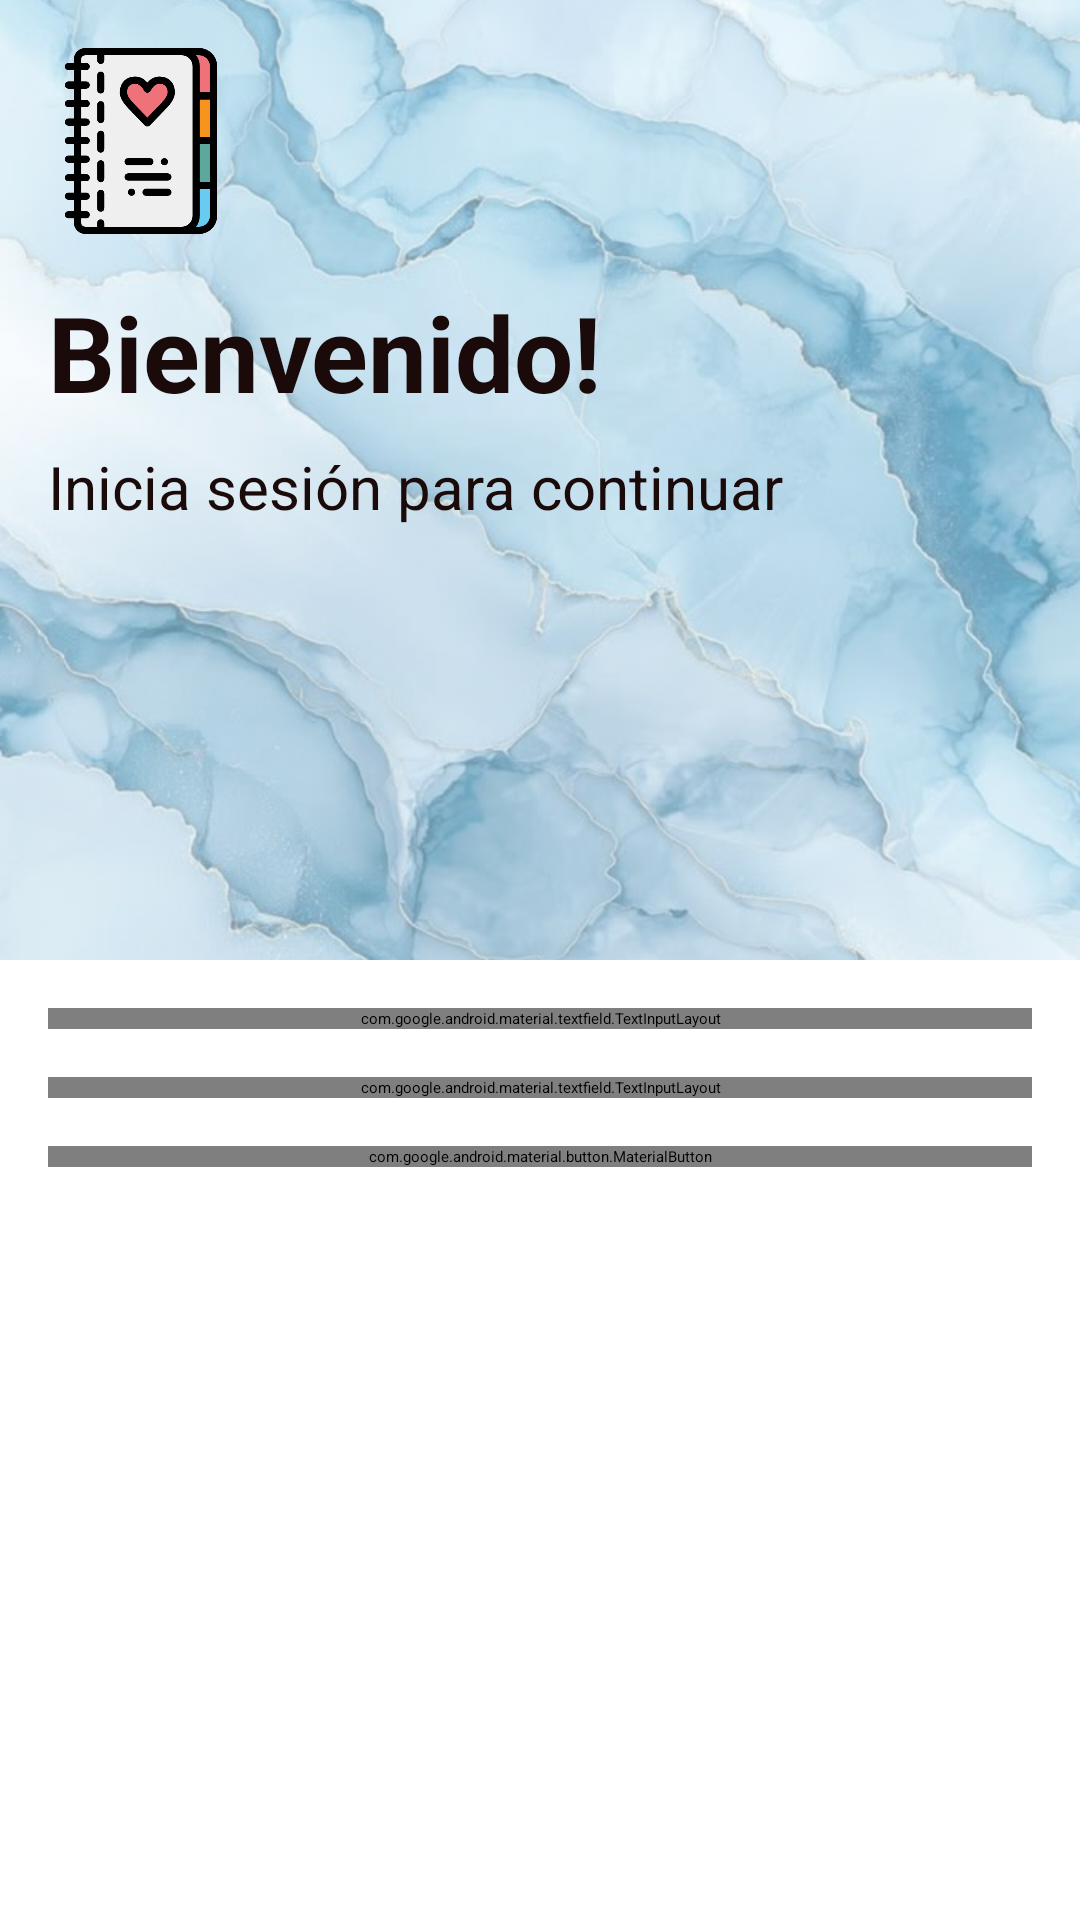

Locate icon controls on the screen. Image size 1080×1920, boxes as (x1, y1, x2, y2).
agenda: (65, 48, 225, 234)
